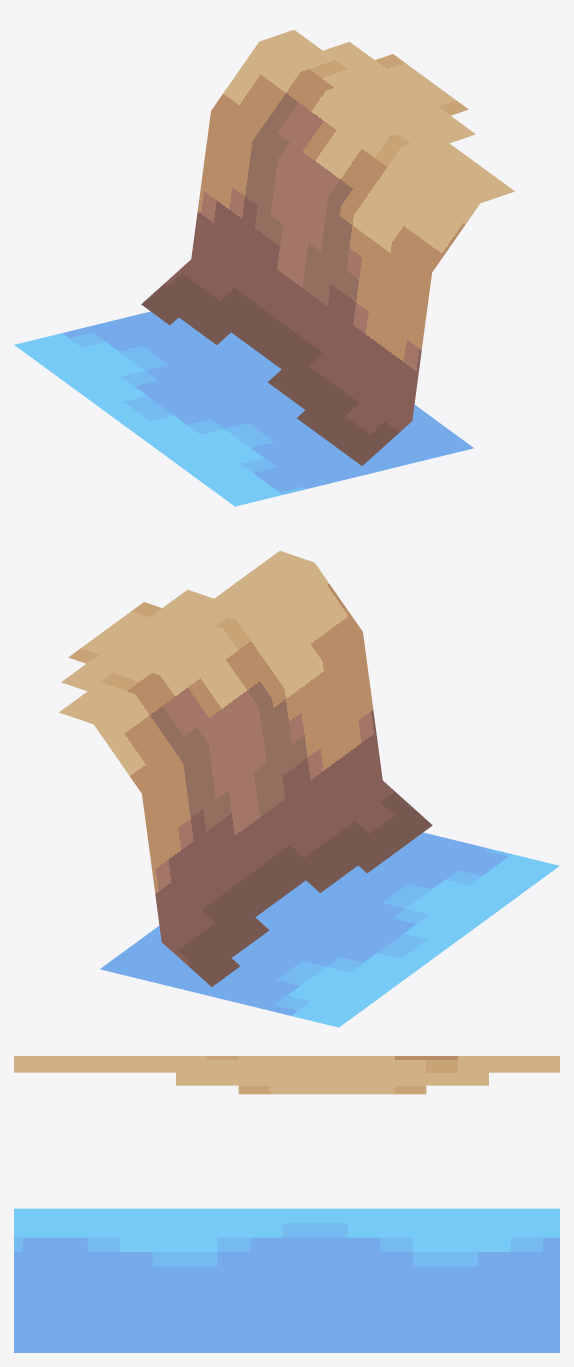
The picture shows the model from 3 angles, top to bottom: view 1: azimuth 30°, elevation 25°; view 2: azimuth 150°, elevation 25°; view 3: azimuth 270°, elevation 25°; orthographic projection. The views are drawn at different scales.
Size of the model in its own units: 0.8486 by 0.627 by 1.
2 materials, 2 textured.
